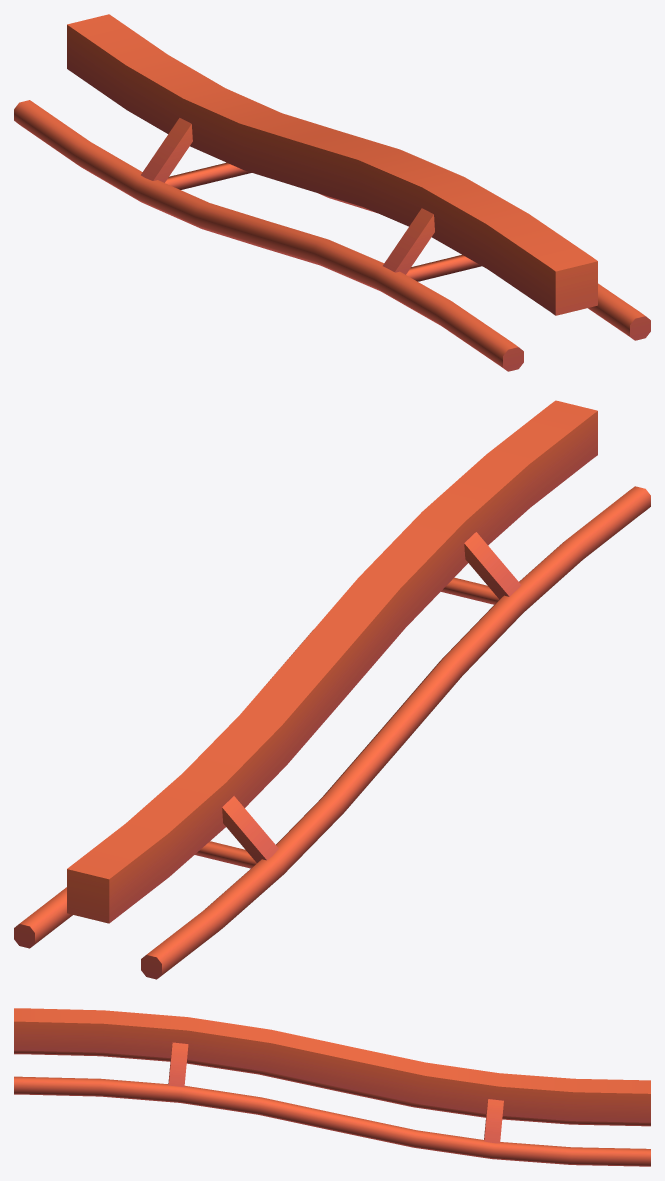
File: coaster-hanging-straight-hill-complete-half.glb
The picture shows the model from 3 angles, top to bottom: view 1: azimuth 30°, elevation 25°; view 2: azimuth 150°, elevation 25°; view 3: azimuth 270°, elevation 25°; orthographic projection. The views are drawn at different scales.
Visible parts, largest first — view 1: coaster-hanging-straight-hill-complete-half; view 2: coaster-hanging-straight-hill-complete-half; view 3: coaster-hanging-straight-hill-complete-half.
Part boxes in pixels (bbox=[...]): coaster-hanging-straight-hill-complete-half: bbox=[14, 14, 650, 371]; coaster-hanging-straight-hill-complete-half: bbox=[14, 400, 650, 979]; coaster-hanging-straight-hill-complete-half: bbox=[14, 1008, 650, 1166].
Size of the model in its own units: 0.6997 by 0.8999 by 4.
1 material, 1 textured.
